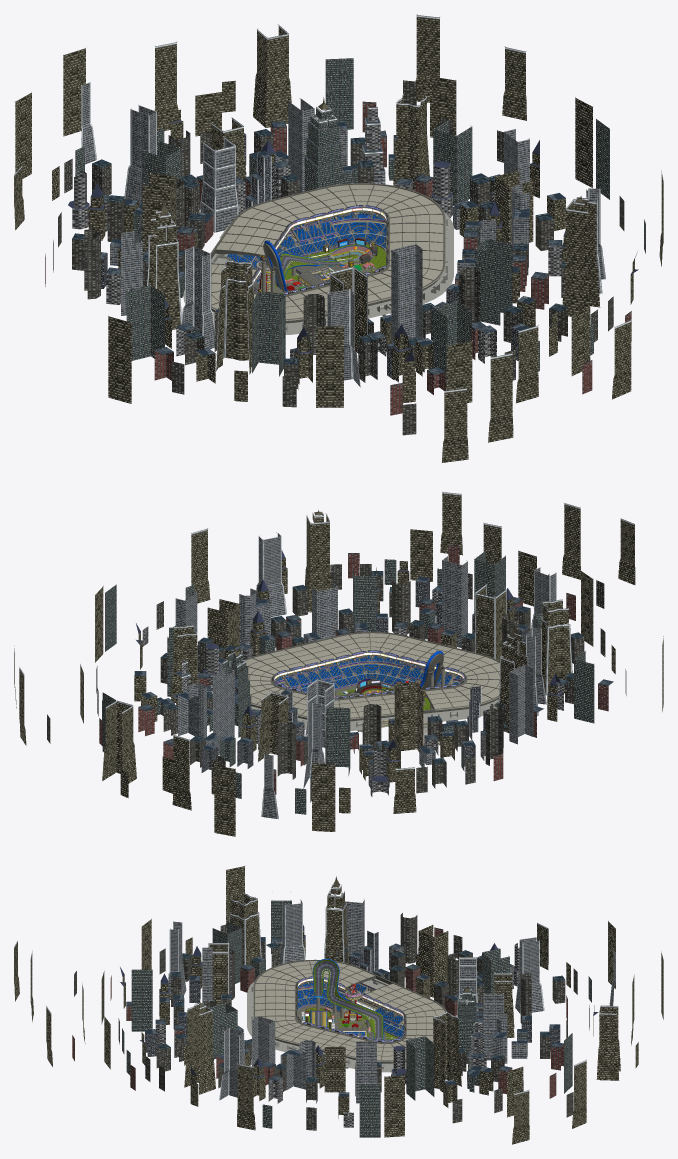
Rendered from stadium-source.glb.
3 renders of one model, top to bottom at view 1: azimuth 30°, elevation 25°; view 2: azimuth 150°, elevation 25°; view 3: azimuth 270°, elevation 25°, orthographic. The views are drawn at different scales.
Visible parts, largest first — view 1: Building_A_A_05__fc_Enkei_Building_3D, P_Building_A__fc_Enkei_Building_Plane, polySurface8363196__fc_StadiumRoof, RoofMainLightParts_0__fc_RoofParts, polySurface181426__fc_bench, pCube1881_10__fc_WhiteWall_Outside, RoofMainLight_display_10__fc_StadiumLight; view 2: Building_A_A_05__fc_Enkei_Building_3D, P_Building_A__fc_Enkei_Building_Plane, polySurface8363196__fc_StadiumRoof, RoofMainLightParts_0__fc_RoofParts, polySurface181426__fc_bench, pCube1881_10__fc_WhiteWall_Outside, RoofMainLight_display_10__fc_StadiumLight, polySurface181425__fc_steps, pCube1292_1__fc_signboard_Emm, polySurface181430__fc_StadiumSignboard; view 3: Building_A_A_05__fc_Enkei_Building_3D, P_Building_A__fc_Enkei_Building_Plane, polySurface8363196__fc_StadiumRoof, RoofMainLightParts_0__fc_RoofParts, pCube1881_10__fc_WhiteWall_Outside, polySurface181426__fc_bench, polySurface8362913__fc_road_G, SmallTree_Leaf6_10__fc_shiba, RoofMainLight_display_10__fc_StadiumLight, SmallTree_Box1_10__fc_obj_4.
Boxes of the visible parts, x1,y1,x2,y2 form: Building_A_A_05__fc_Enkei_Building_3D: (68,25,605,394); P_Building_A__fc_Enkei_Building_Plane: (14,15,663,462); polySurface8363196__fc_StadiumRoof: (211,184,444,320); RoofMainLightParts_0__fc_RoofParts: (210,183,445,323); polySurface181426__fc_bench: (227,211,386,282); pCube1881_10__fc_WhiteWall_Outside: (183,211,453,334); RoofMainLight_display_10__fc_StadiumLight: (252,205,387,294); Building_A_A_05__fc_Enkei_Building_3D: (102,510,613,802); P_Building_A__fc_Enkei_Building_Plane: (14,492,663,836); polySurface8363196__fc_StadiumRoof: (246,633,499,719); RoofMainLightParts_0__fc_RoofParts: (244,632,499,721); polySurface181426__fc_bench: (275,655,462,691); pCube1881_10__fc_WhiteWall_Outside: (251,655,498,743); RoofMainLight_display_10__fc_StadiumLight: (273,650,465,698); polySurface181425__fc_steps: (280,655,456,691); pCube1292_1__fc_signboard_Emm: (274,652,464,697); polySurface181430__fc_StadiumSignboard: (274,661,461,689); Building_A_A_05__fc_Enkei_Building_3D: (126,876,620,1118); P_Building_A__fc_Enkei_Building_Plane: (14,866,663,1144); polySurface8363196__fc_StadiumRoof: (255,961,444,1061); RoofMainLightParts_0__fc_RoofParts: (253,959,446,1063); pCube1881_10__fc_WhiteWall_Outside: (247,979,406,1072); polySurface181426__fc_bench: (297,981,403,1038); polySurface8362913__fc_road_G: (315,961,381,1038); SmallTree_Leaf6_10__fc_shiba: (313,959,394,1039); RoofMainLight_display_10__fc_StadiumLight: (296,976,404,1042); SmallTree_Box1_10__fc_obj_4: (301,1000,370,1033).
Size of the model in its own units: 1581 by 359 by 1989.
68 materials, 68 textured.
